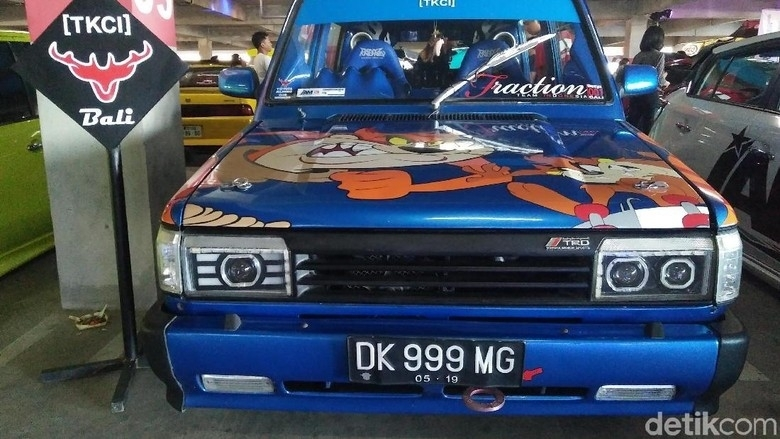plate: (348, 338, 522, 392)
